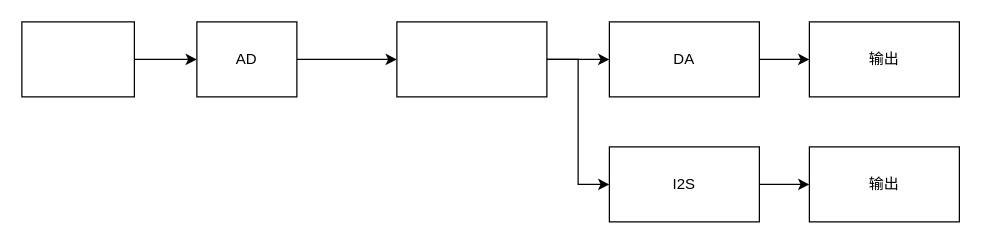
Some shapes in this 981 by 244 pixel diagram are drawn without their labels. The centre of each missing label's shape, as x and y in pixels:
DSP: point 471,59
模拟音源: point 77,59
